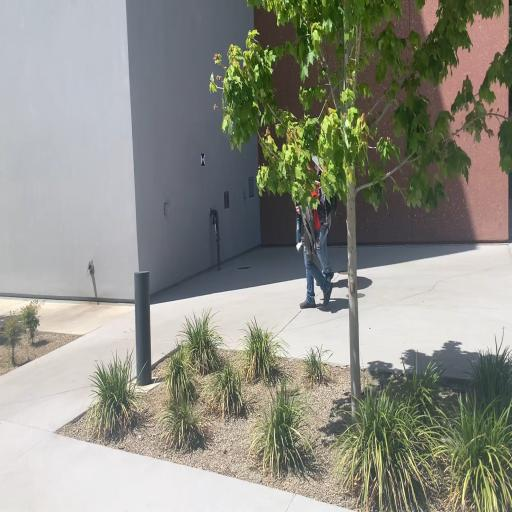target3: (200, 153, 206, 167)
